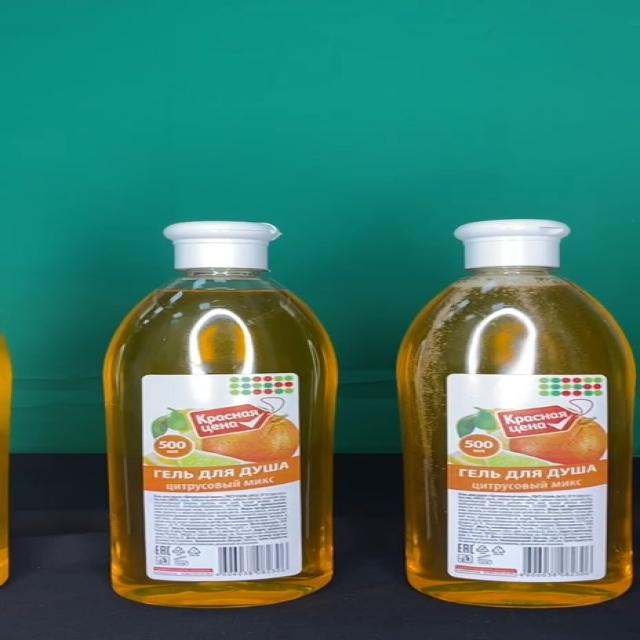Bottle: (100, 221, 343, 606), (396, 218, 634, 607)
Cap: (163, 222, 283, 271), (454, 220, 570, 267)
